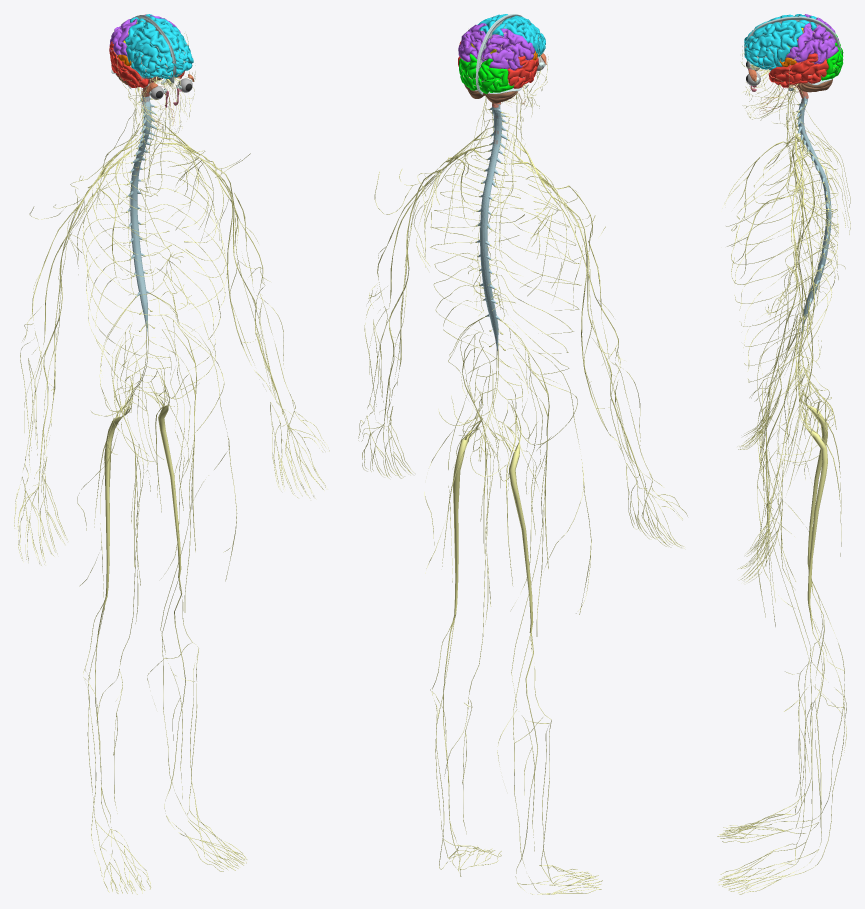
File: nervous-system-sense-organs.glb
3 views of the same model, side by side, from view 1: azimuth 30°, elevation 25°; view 2: azimuth 150°, elevation 25°; view 3: azimuth 270°, elevation 25° (orthographic). The views are drawn at different scales.
Parts seen in each view (by area): view 1: object 1, Intercostal nerves.r, Intercostal nerves.l, object 5, Sciatic nerve.r, Sciatic nerve.l, Middle frontal gyrus.r; view 2: object 1, Intercostal nerves.r, Intercostal nerves.l, Sciatic nerve.r, Sciatic nerve.l, object 5; view 3: object 1, Intercostal nerves.l, Intercostal nerves.r, Sciatic nerve.l, object 5, Sciatic nerve.r, Middle frontal gyrus.l, Saphenous nerve.l, Precentral gyrus.l, Middle temporal gyrus.l, Median nerve.l, Saphenous nerve.r (+12 smaller).
Part boxes in pixels (left/top/right/bottom): object 1: left=127, top=15, right=176, bottom=335; Intercostal nerves.r: left=82, top=148, right=172, bottom=393; Intercostal nerves.l: left=142, top=144, right=227, bottom=389; object 5: left=125, top=80, right=193, bottom=412; Sciatic nerve.r: left=104, top=378, right=132, bottom=596; Sciatic nerve.l: left=151, top=379, right=181, bottom=578; Middle frontal gyrus.r: left=133, top=30, right=166, bottom=73; object 1: left=475, top=14, right=522, bottom=350; Intercostal nerves.r: left=492, top=163, right=581, bottom=374; Intercostal nerves.l: left=430, top=155, right=524, bottom=370; Sciatic nerve.r: left=501, top=410, right=533, bottom=633; Sciatic nerve.l: left=452, top=395, right=481, bottom=614; object 5: left=468, top=94, right=522, bottom=461; object 1: left=746, top=16, right=841, bottom=332; Intercostal nerves.l: left=731, top=155, right=838, bottom=382; Intercostal nerves.r: left=731, top=140, right=838, bottom=371; Sciatic nerve.l: left=798, top=386, right=827, bottom=613; object 5: left=765, top=83, right=836, bottom=429; Sciatic nerve.r: left=800, top=374, right=827, bottom=570; Middle frontal gyrus.l: left=745, top=29, right=794, bottom=62; Saphenous nerve.l: left=762, top=452, right=846, bottom=828; Precentral gyrus.l: left=777, top=21, right=805, bottom=61; Middle temporal gyrus.l: left=774, top=59, right=828, bottom=82; Median nerve.l: left=770, top=198, right=803, bottom=508; Saphenous nerve.r: left=763, top=423, right=846, bottom=796.
Size of the model in its own units: 0.6671 by 1.69 by 0.2422.
